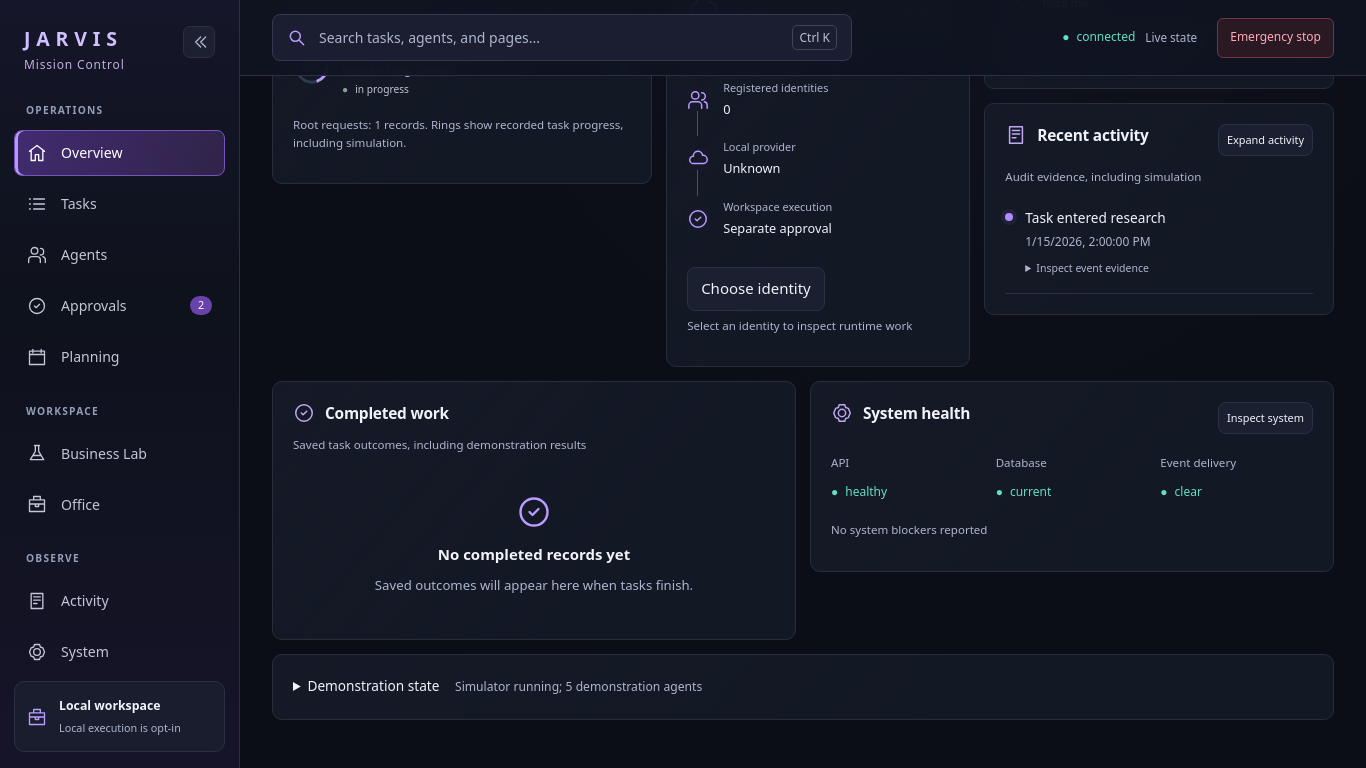
Test: Jarvis interface › dashboard renders synchronized seed state
(page scrolled)
Expected: the text "Select an identity to inspect runtime work" is shown, [687,317,949,334]
Click the heading "Demonstration state": (505, 686) [308,676,702,695]
(page scrolled)
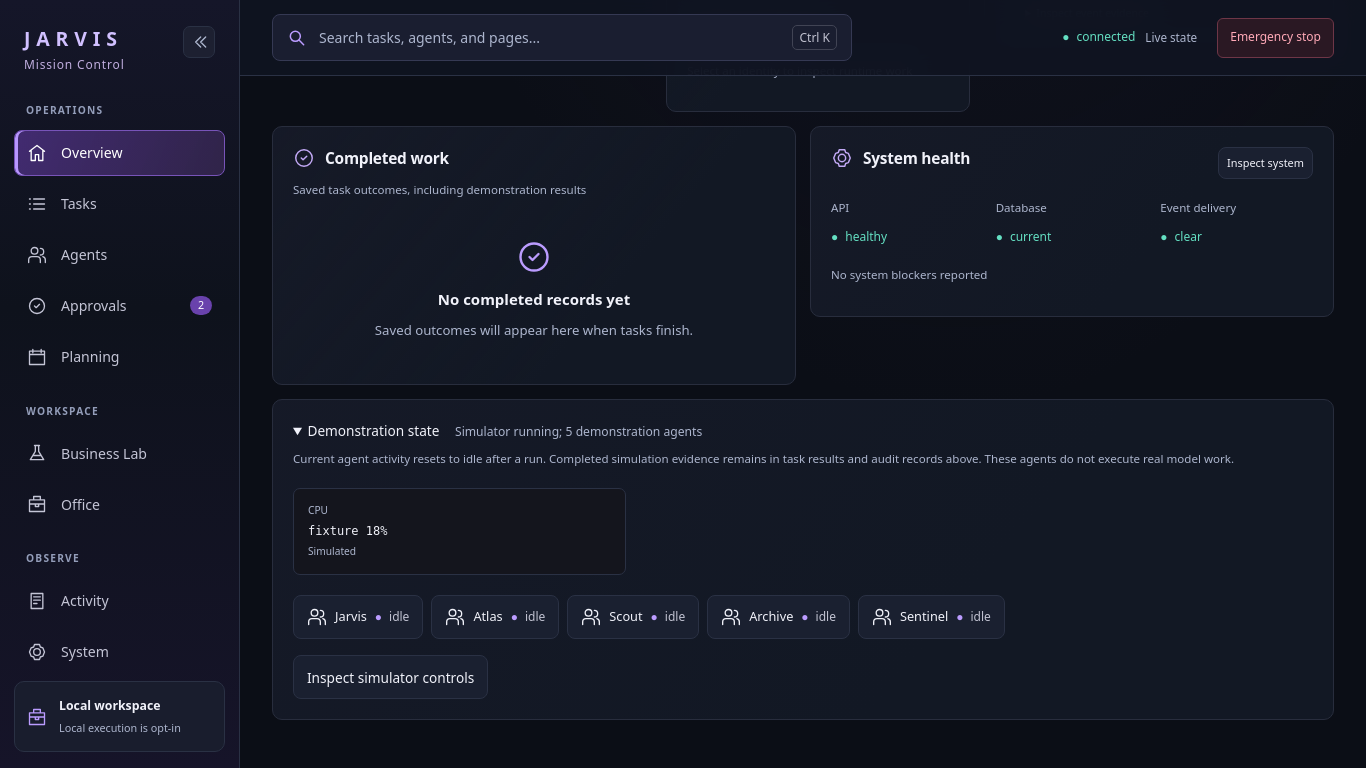
Result: the text "fixture 18%" is shown at [308,524,388,538]
